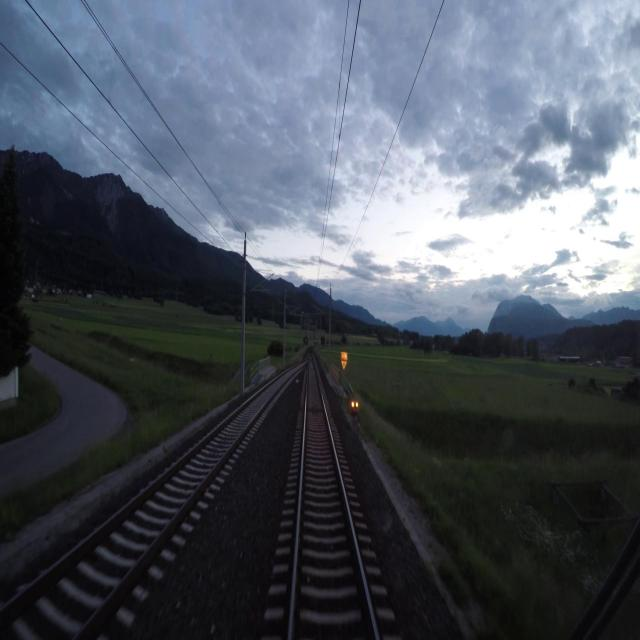rail-track: (0, 370, 292, 639), (292, 362, 375, 639)
